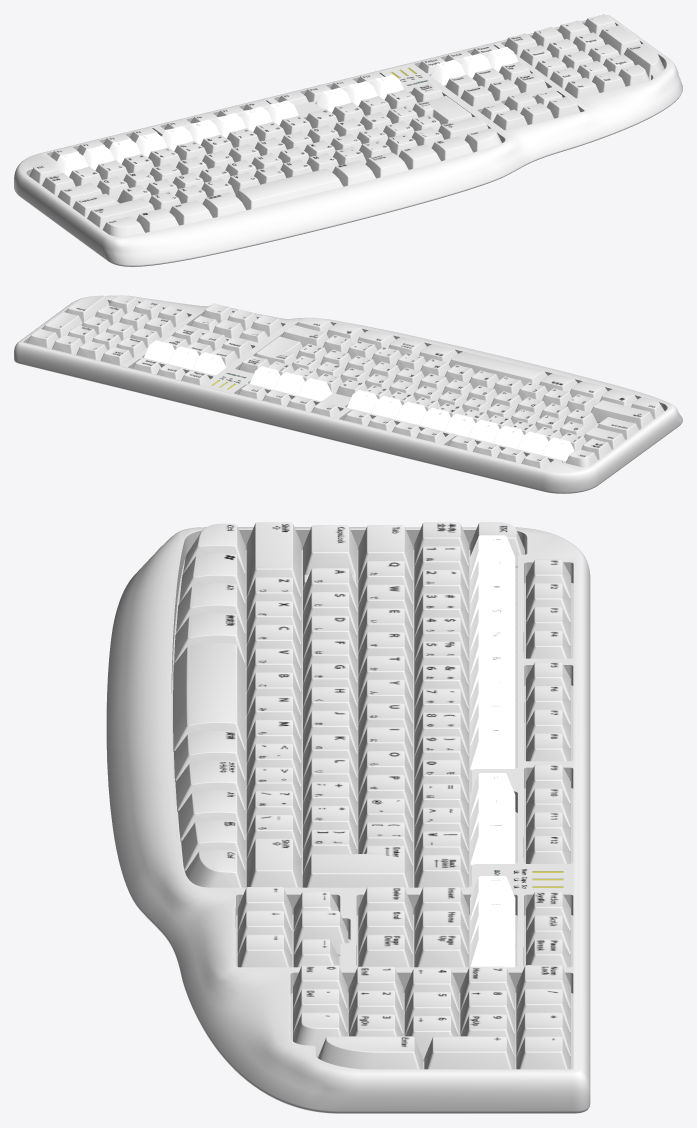
File: keyboard_Akira-Ohmachi_dM8MokabmkE.glb
3 views of the same model, one above another, from view 1: azimuth 30°, elevation 25°; view 2: azimuth 150°, elevation 25°; view 3: azimuth 270°, elevation 25° (orthographic). The views are drawn at different scales.
Parts seen in each view (by area): view 1: key.white, body.outer, body.outer_1, key.gray, body.outer_2, body.inner; view 2: key.white, body.outer, key.gray, body.outer_1, body.outer_2, body.inner; view 3: key.white, body.outer, key.gray, body.outer_2, body.outer_1, body.inner.
Boxes of the visible parts, box(x1,y1,x2,y2) form: key.white: box(29, 14, 664, 236); body.outer: box(14, 15, 679, 255); body.outer_1: box(14, 76, 682, 266); key.gray: box(54, 46, 518, 176); body.outer_2: box(20, 15, 671, 239); body.inner: box(26, 22, 666, 175); key.white: box(27, 295, 664, 468); body.outer: box(14, 295, 679, 485); key.gray: box(144, 340, 574, 461); body.outer_1: box(14, 354, 682, 493); body.outer_2: box(20, 296, 671, 472); body.inner: box(23, 300, 667, 462); key.white: box(173, 522, 570, 1069); body.outer: box(120, 527, 590, 1098); key.gray: box(470, 535, 515, 967); body.outer_2: box(167, 527, 578, 1071); body.outer_1: box(106, 563, 590, 1113); body.inner: box(171, 530, 573, 1069).
Bounding box in the file's own units: 7.66 × 0.3988 × 2.83.
Materials: 6 (3 with a texture image).
